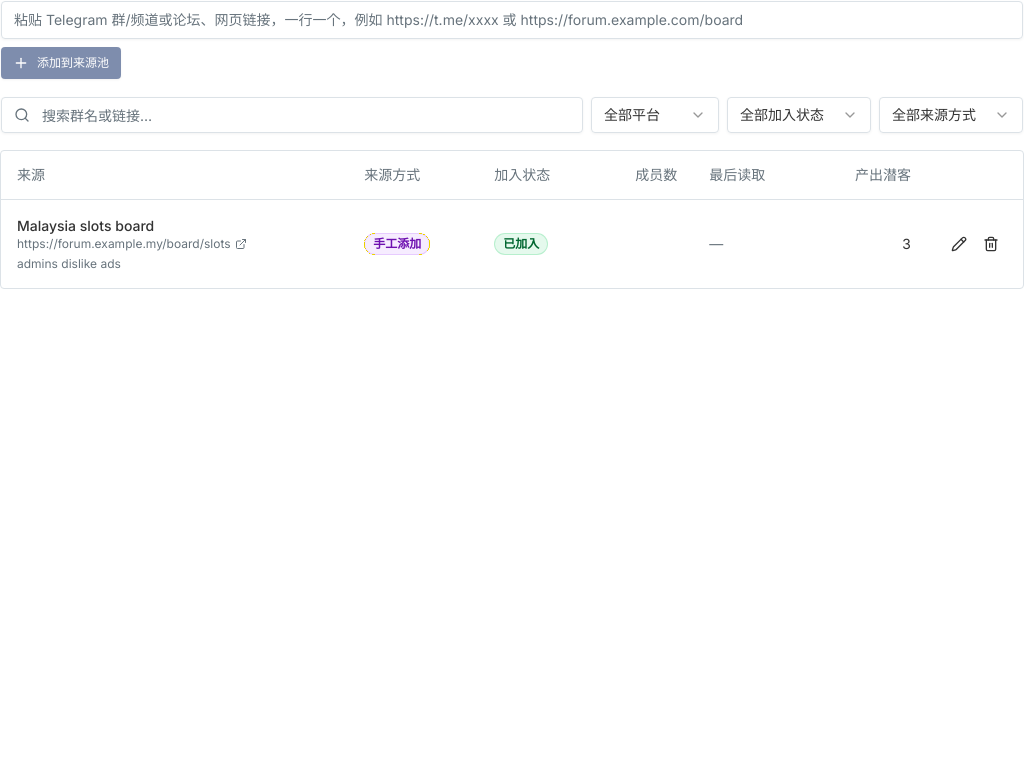
FlowSources › renames a source and rewrites its note
Expected: the text "admins dislike ads" is shown, [17,256,121,270]
Click the button named "编辑来源 Malaysia slots board".
click(959, 244)  # box [943,228,975,260]
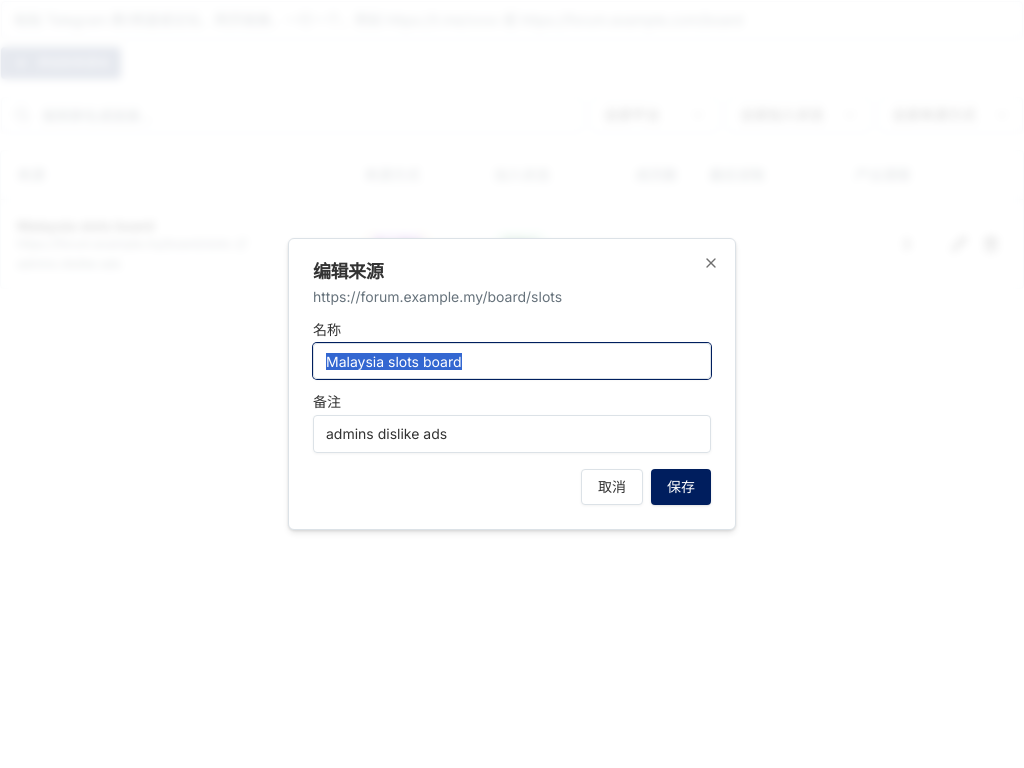
Replace the text in the field labelled "名称" with "  MY slots board  " at (512, 361), box [313,343,711,379]
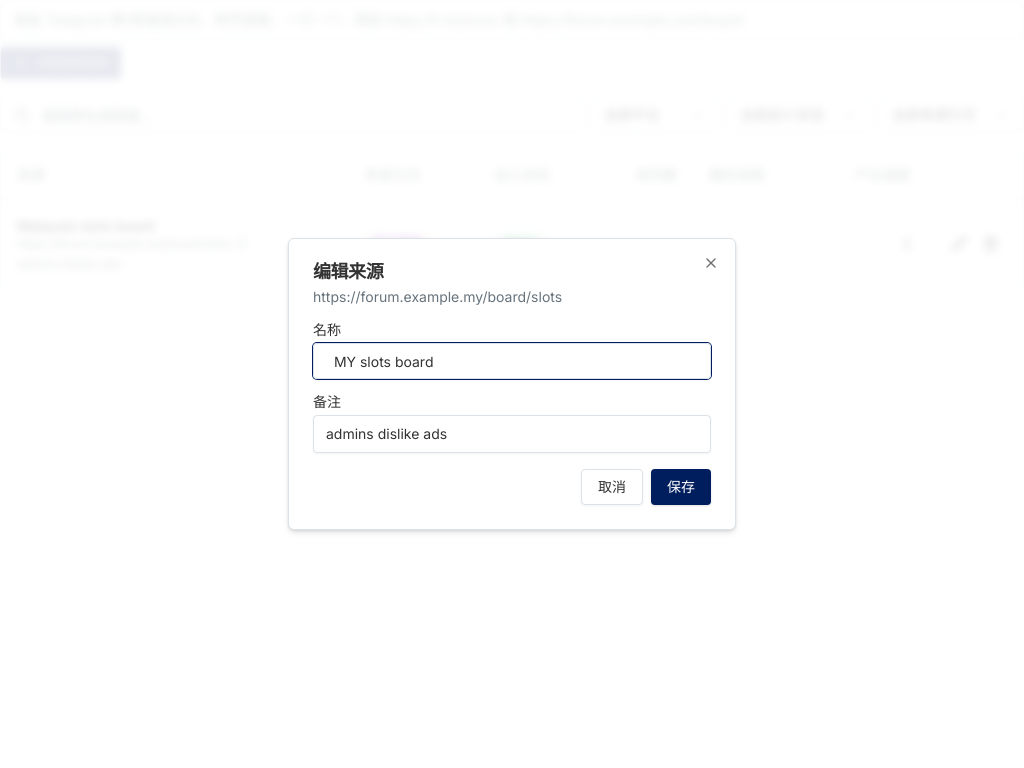
Replace the text in the text box labelled "备注" with "many players" at (512, 434), box [313,415,711,453]
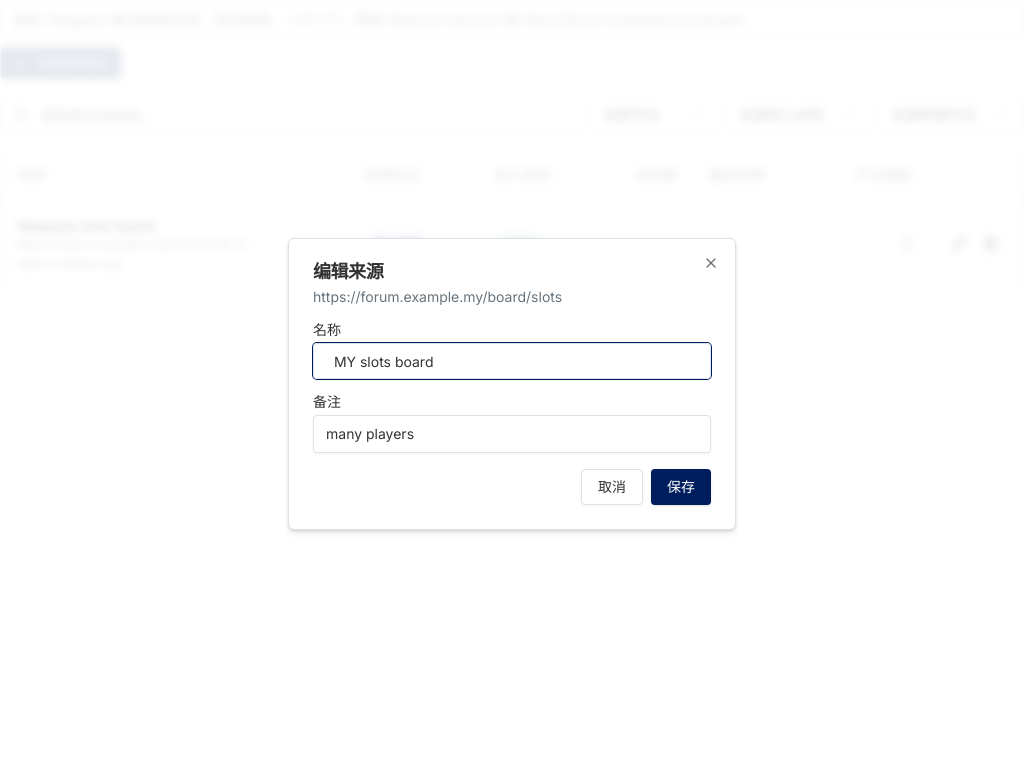
Click the button "保存".
click(681, 487)  # box [651,469,711,505]
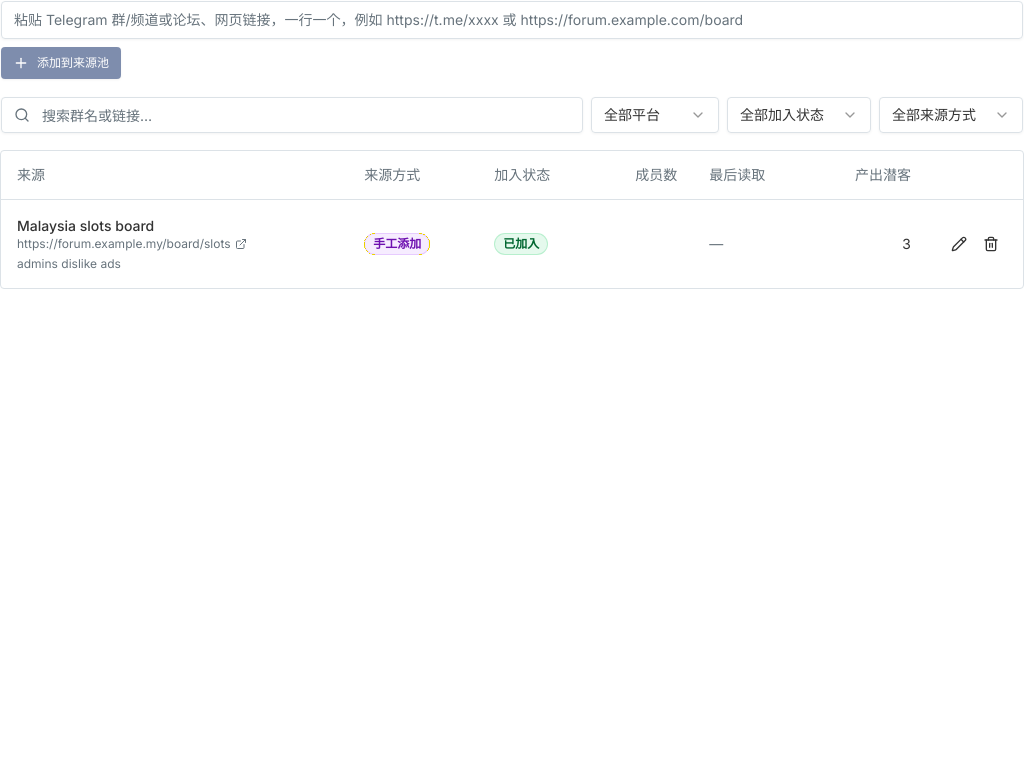
Now the dialog is gone
